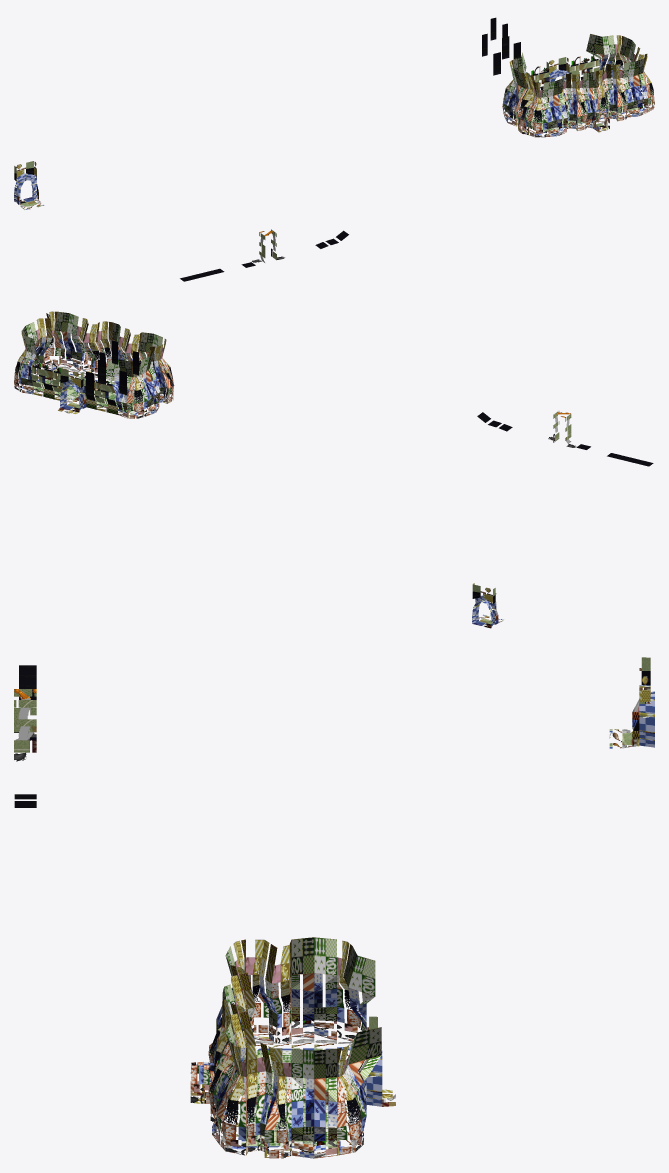
The picture shows the model from 3 angles, top to bottom: view 1: azimuth 30°, elevation 25°; view 2: azimuth 150°, elevation 25°; view 3: azimuth 270°, elevation 25°; orthographic projection. The views are drawn at different scales.
Parts seen in each view (by area): view 1: T1L9M006_43, T1L9M006_42, T1L9M006_44, T1L9M006_40, T1L9M006_41, T1L9M006_23, T1L9M006_1, T1L9M006_32, T1L9M006_39, T1L9M006_25, T1L9M006_21; view 2: T1L9M006_44, T1L9M006_19, T1L9M006_43, T1L9M006_32, T1L9M006_23, T1L9M006_1, T1L9M006_21, T1L9M006_25, T1L9M006_38, T1L9M006_18, T1L9M006_42, T1L9M006_22 (+4 smaller); view 3: T1L9M006_31, T1L9M006_25, T1L9M006_38, T1L9M006_32, T1L9M006_45, T1L9M006_24, T1L9M006_23, T1L9M006_1, T1L9M006_43, T1L9M006_19, T1L9M006_50, T1L9M006_42 (+4 smaller).
Boxes of the visible parts, x1,y1,x2,y2 form: T1L9M006_43: (601,64,627,121); T1L9M006_42: (580,69,607,129); T1L9M006_44: (621,58,648,117); T1L9M006_40: (542,78,567,136); T1L9M006_41: (562,73,587,131); T1L9M006_23: (586,34,615,93); T1L9M006_1: (14,161,44,209); T1L9M006_32: (515,73,536,134); T1L9M006_39: (527,81,547,137); T1L9M006_25: (503,65,525,125); T1L9M006_21: (546,57,573,105); T1L9M006_44: (54,311,82,375); T1L9M006_19: (105,359,133,417); T1L9M006_43: (76,318,101,380); T1L9M006_32: (148,344,174,406); T1L9M006_23: (21,335,43,396); T1L9M006_1: (472,583,503,628); T1L9M006_21: (60,367,86,412); T1L9M006_25: (135,351,160,415); T1L9M006_38: (27,313,54,378); T1L9M006_18: (126,361,148,418); T1L9M006_42: (96,321,123,385); T1L9M006_22: (42,363,70,400); T1L9M006_31: (291,1048,336,1158); T1L9M006_25: (291,937,336,1050); T1L9M006_38: (246,1043,291,1158); T1L9M006_32: (246,939,291,1050); T1L9M006_45: (216,1042,245,1155); T1L9M006_24: (337,1044,366,1155); T1L9M006_23: (339,1027,381,1146); T1L9M006_1: (609,657,654,748); T1L9M006_43: (208,1003,255,1126); T1L9M006_19: (338,946,375,1068); T1L9M006_50: (14,689,36,761); T1L9M006_42: (203,984,244,1104).
Bounding box in the file's own units: 107 × 23.38 × 56.44.
